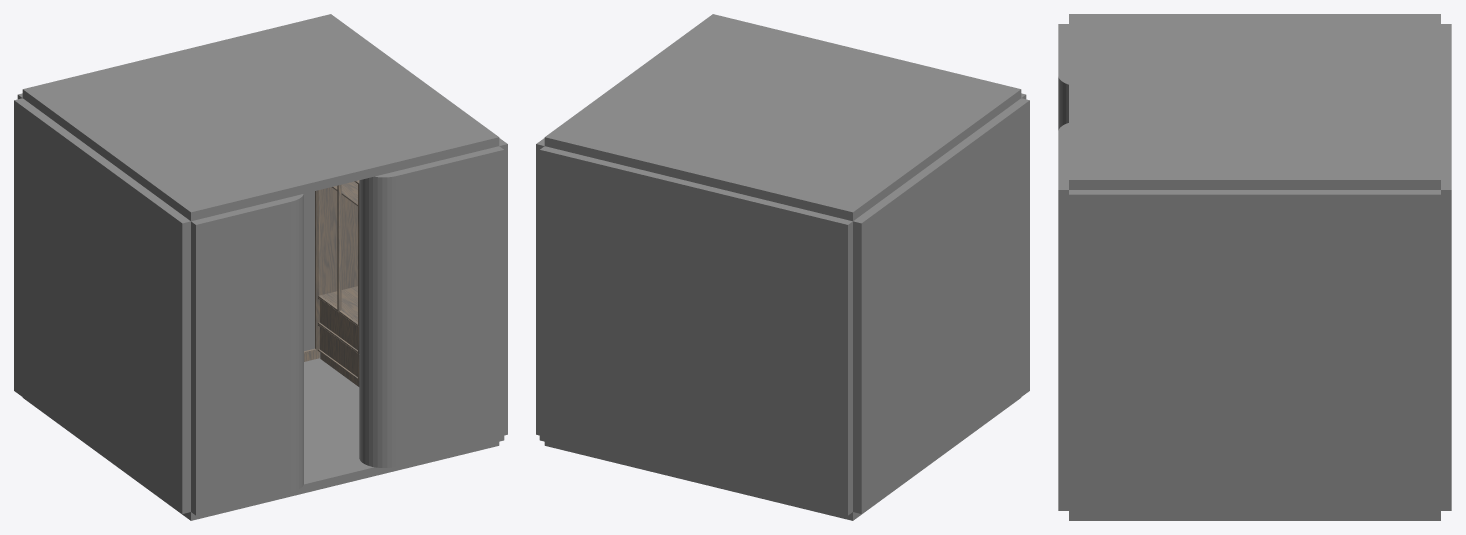
3 views of the same model, side by side, from view 1: azimuth 30°, elevation 25°; view 2: azimuth 150°, elevation 25°; view 3: azimuth 270°, elevation 25° (orthographic). The views are drawn at different scales.
Parts seen in each view (by area): view 1: root; view 2: root; view 3: root.
Part boxes in pixels (x1,y1,x2,y2): root: [14, 14, 507, 520]; root: [536, 14, 1029, 520]; root: [1058, 14, 1451, 520].
Size of the model in its own units: 3.8 by 3.44 by 3.6.
Materials: 6 (1 with a texture image).
